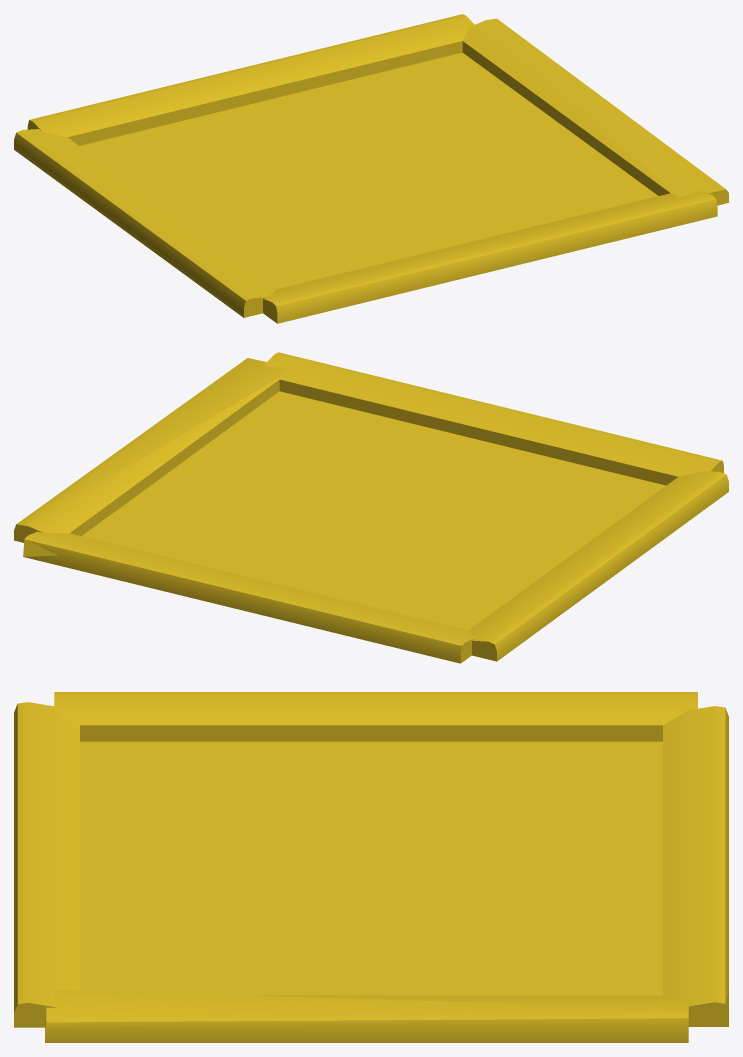
Rendered from Portrait 2.fbx.
3 renders of one model, top to bottom at view 1: azimuth 30°, elevation 25°; view 2: azimuth 150°, elevation 25°; view 3: azimuth 270°, elevation 25°, orthographic. The views are drawn at different scales.
Visible parts, largest first — view 1: Portrait 1; view 2: Portrait 1; view 3: Portrait 1.
Part boxes in pixels (left/top/right/bottom): Portrait 1: left=14, top=14, right=728, bottom=323; Portrait 1: left=14, top=352, right=728, bottom=663; Portrait 1: left=14, top=692, right=728, bottom=1042.
Size of the model in its own units: 54.1 by 1.9 by 49.65.
